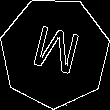M_S: (27, 22, 83, 82)
